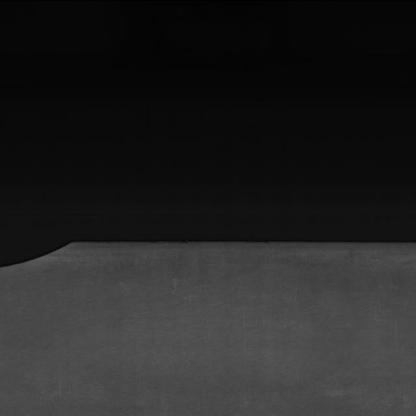crescent_gap: (1, 227, 90, 277)
